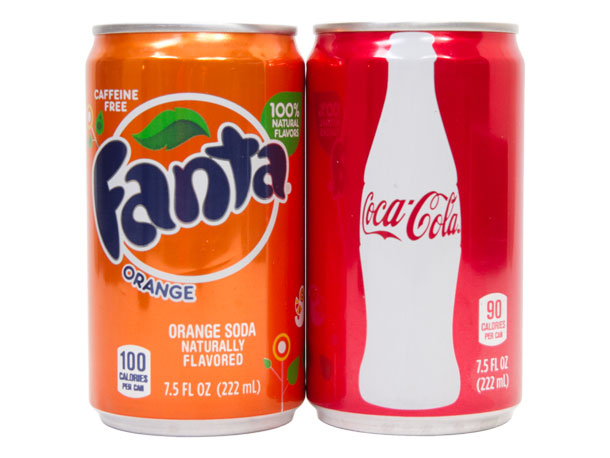coke: (304, 20, 520, 437)
